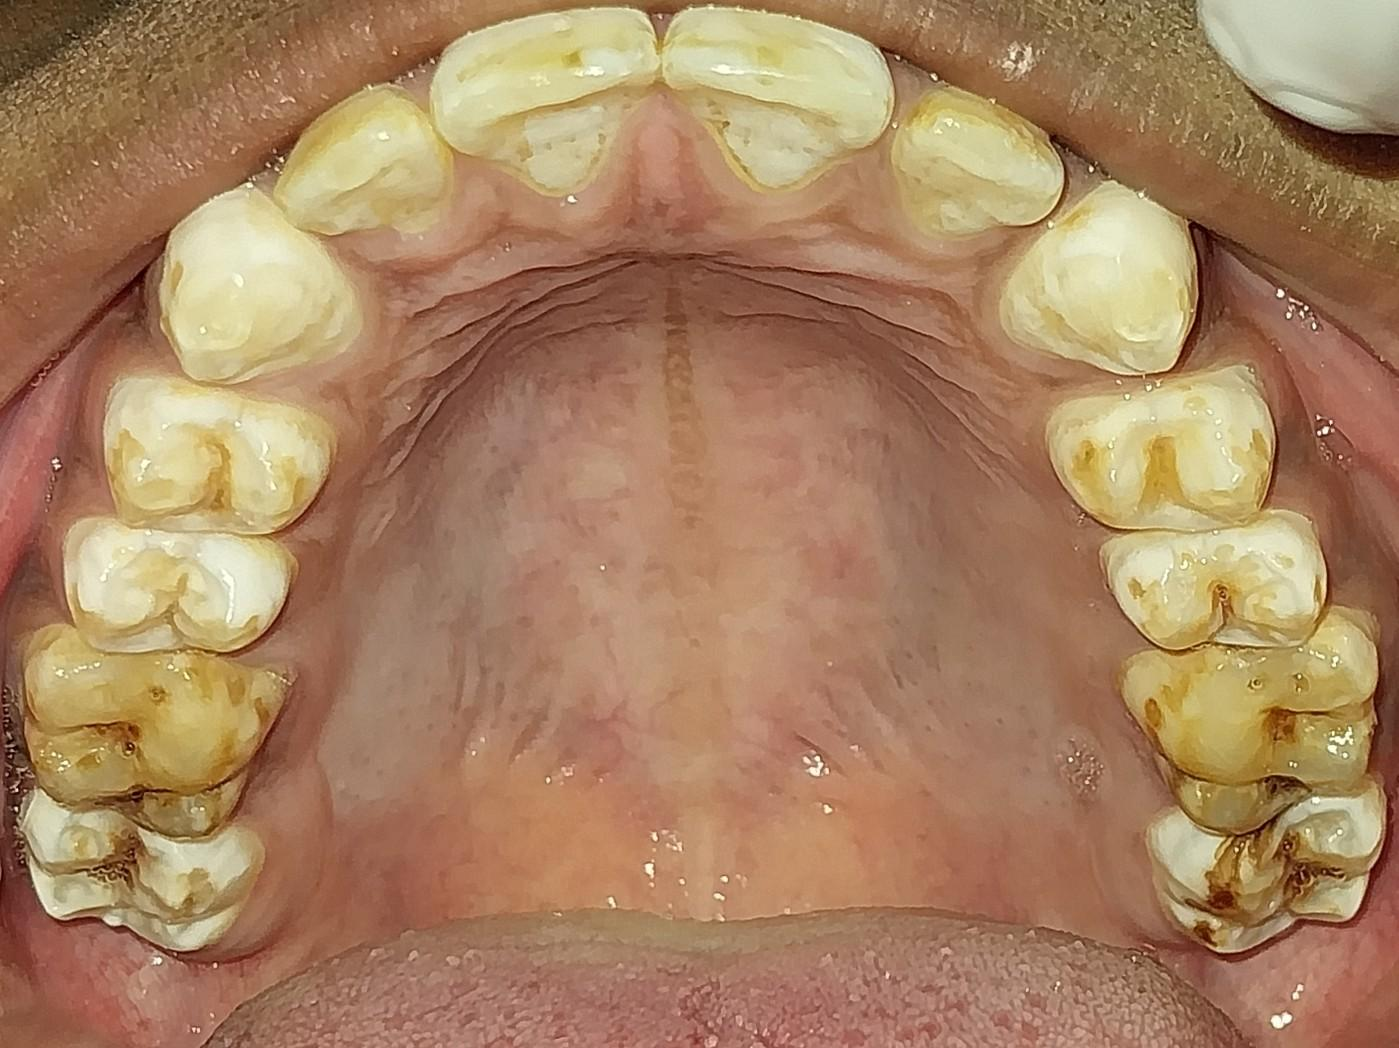D: (1120, 608, 1396, 833), (17, 620, 283, 834), (1144, 790, 1389, 959), (24, 790, 263, 955)
